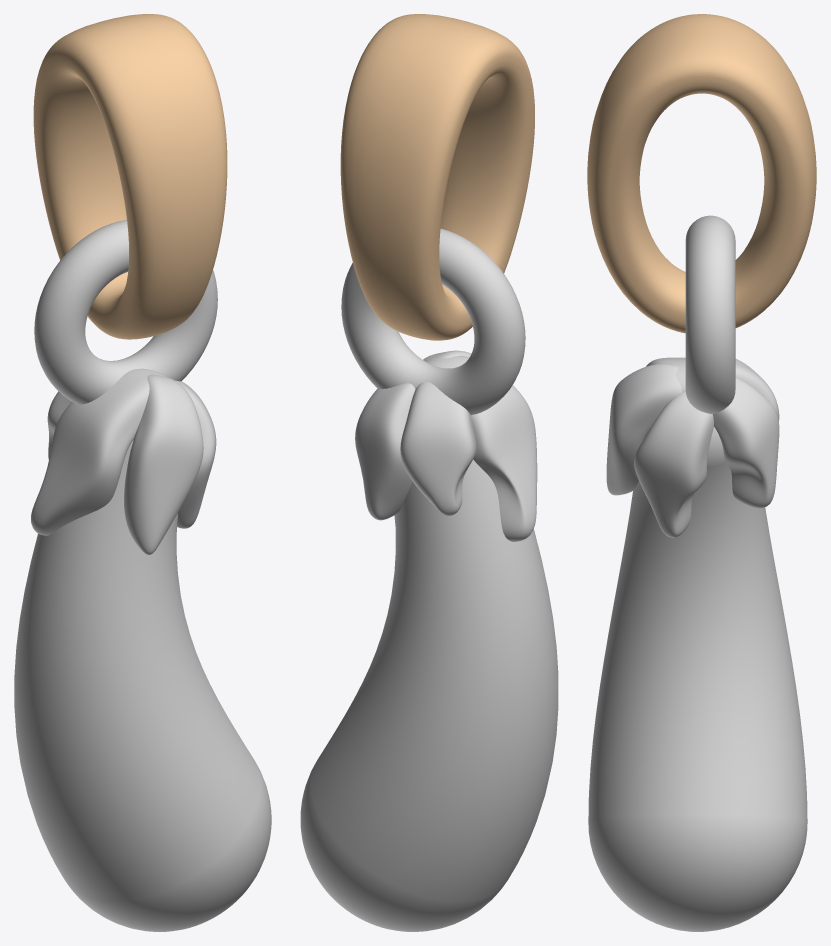
3 renders of one model, left to right at view 1: azimuth 30°, elevation 25°; view 2: azimuth 150°, elevation 25°; view 3: azimuth 270°, elevation 25°, orthographic. The views are drawn at different scales.
Visible parts, largest first — view 1: beringela.3dm; view 2: beringela.3dm; view 3: beringela.3dm.
Part boxes in pixels (left/top/right/bottom): beringela.3dm: left=14, top=14, right=271, bottom=931; beringela.3dm: left=300, top=14, right=558, bottom=931; beringela.3dm: left=587, top=14, right=816, bottom=931.
Size of the model in its own units: 1.01 by 3.77 by 0.8895.
